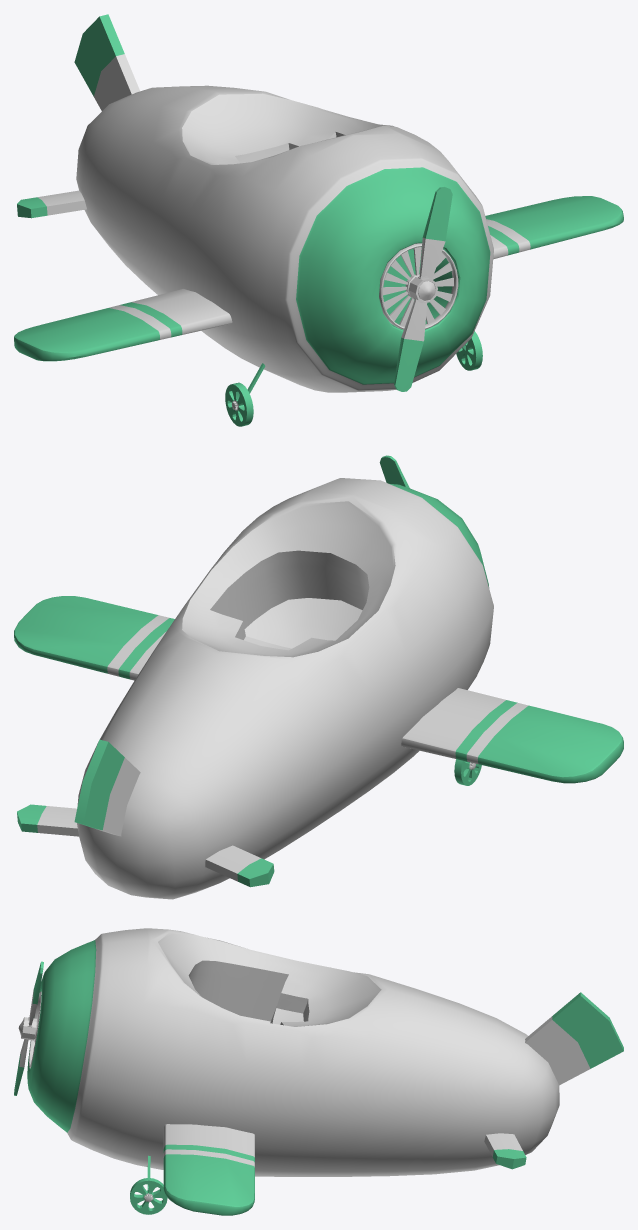
The picture shows the model from 3 angles, top to bottom: view 1: azimuth 30°, elevation 25°; view 2: azimuth 150°, elevation 25°; view 3: azimuth 270°, elevation 25°; orthographic projection. The views are drawn at different scales.
Visible parts, largest first — view 1: Plane; view 2: Plane; view 3: Plane.
Boxes of the visible parts, <box> form: Plane: <box>14,14,623,426</box>; Plane: <box>14,455,623,899</box>; Plane: <box>14,928,623,1215</box>.
Size of the model in its own units: 0.262 by 0.1127 by 0.2741.
